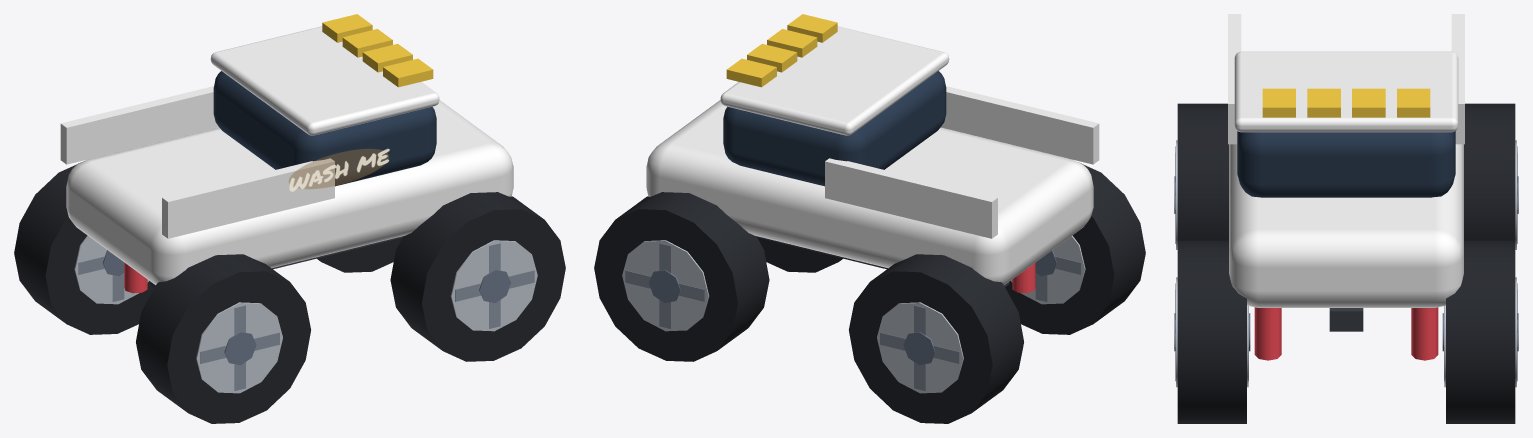
File: car_monster.glb
3 views of the same model, side by side, from view 1: azimuth 30°, elevation 25°; view 2: azimuth 150°, elevation 25°; view 3: azimuth 270°, elevation 25° (orthographic). The views are drawn at different scales.
Visible parts, largest first — view 1: Paint, Wheel1, Wheel0, Trim, Wheel3, WashMe, Wheel2; view 2: Paint, Wheel3, Wheel2, Trim, Wheel1, Wheel0; view 3: Paint, Trim, Wheel0, Wheel2, Wheel1, Wheel3.
Part boxes in pixels (x1,y1,x2,y2): Paint: [60, 26, 513, 285]; Wheel1: [136, 254, 310, 423]; Wheel0: [390, 192, 565, 361]; Trim: [124, 14, 436, 293]; Wheel3: [14, 162, 154, 334]; WashMe: [289, 148, 389, 191]; Wheel2: [317, 238, 402, 272]; Paint: [646, 26, 1099, 285]; Wheel3: [849, 254, 1023, 423]; Wheel2: [594, 192, 769, 361]; Trim: [723, 14, 1035, 293]; Wheel1: [1005, 162, 1145, 334]; Wheel0: [757, 238, 842, 272]; Paint: [1228, 14, 1464, 307]; Trim: [1237, 88, 1455, 360]; Wheel0: [1174, 240, 1250, 423]; Wheel2: [1442, 240, 1518, 423]; Wheel1: [1174, 103, 1228, 249]; Wheel3: [1464, 103, 1518, 249].
Size of the model in its own units: 4.54 by 2.92 by 3.08.
Materials: 7 (1 with a texture image).
